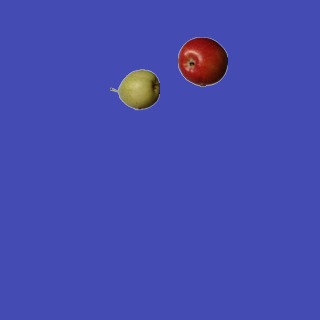Apple Braeburn: (177, 36, 227, 86)
Pear: (109, 64, 159, 114)
